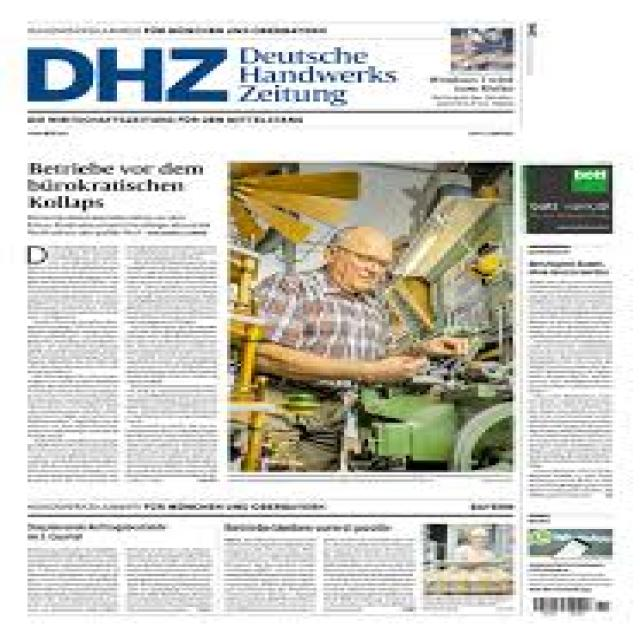paper: (11, 0, 633, 633)
